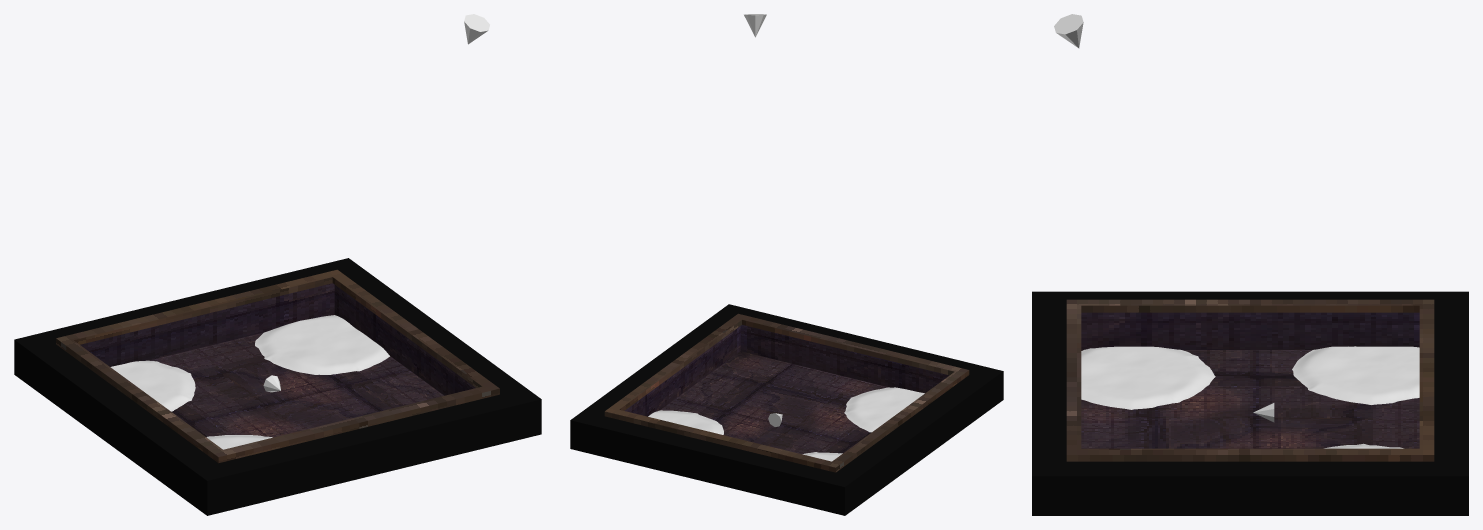
The model's file is demo-physics.glb.
3 renders of one model, left to right at view 1: azimuth 30°, elevation 25°; view 2: azimuth 150°, elevation 25°; view 3: azimuth 270°, elevation 25°, orthographic. The views are drawn at different scales.
Parts seen in each view (by area): view 1: Plane, Plane.001, Plane.003, Plane.002, Plane.007, Plane.005; view 2: Plane, Plane.001, Plane.003, Plane.002, Plane.006, Plane.007; view 3: Plane, Plane.001, Plane.003, Plane.002, Plane.006, Plane.005, Cone.001.
Boxes of the visible parts, box(x1,y1,x2,y2) form: Plane: box(14, 258, 541, 515); Plane.001: box(149, 332, 443, 437); Plane.003: box(56, 269, 499, 463); Plane.002: box(80, 283, 475, 395); Plane.007: box(255, 315, 389, 374); Plane.005: box(110, 360, 195, 411); Plane: box(570, 304, 1003, 515); Plane.001: box(660, 351, 887, 454); Plane.003: box(604, 313, 969, 472); Plane.002: box(624, 325, 949, 416); Plane.006: box(844, 387, 924, 432); Plane.007: box(648, 410, 723, 434); Plane: box(1032, 291, 1468, 515); Plane.001: box(1081, 350, 1419, 448); Plane.003: box(1066, 299, 1434, 461); Plane.002: box(1081, 312, 1419, 349); Plane.006: box(1081, 346, 1215, 409); Plane.005: box(1292, 346, 1419, 404); Cone.001: box(1054, 14, 1083, 48).
Bounding box in the file's own units: 10 × 11.9 × 10.
Materials: 5 (3 with a texture image).
